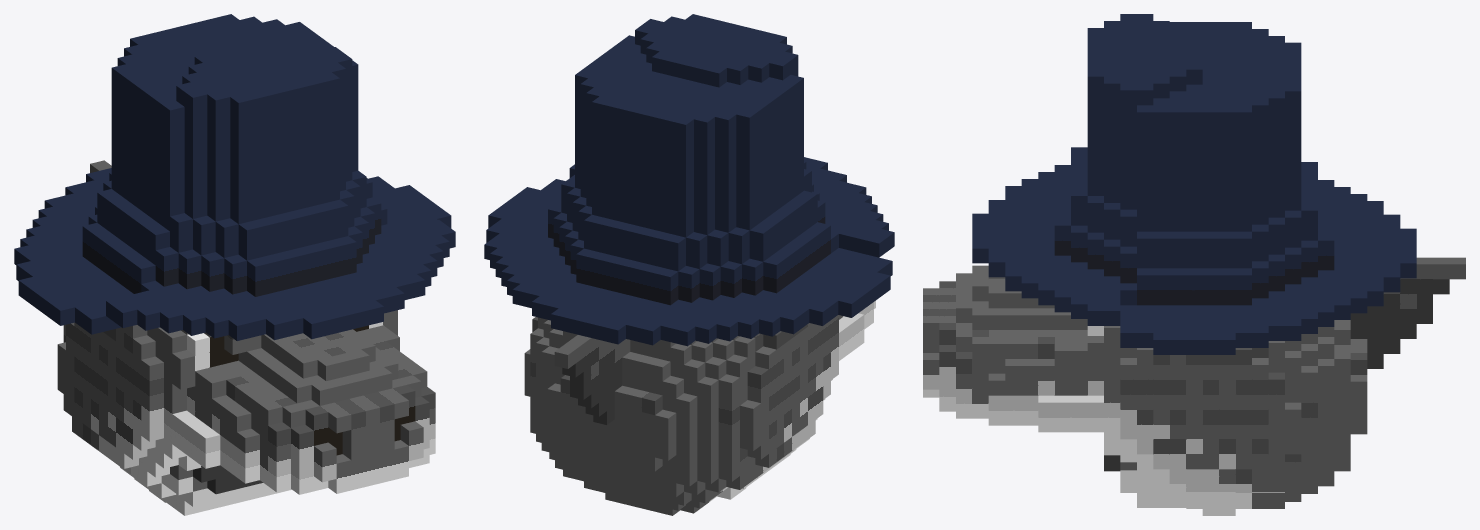
The model's file is top hat_cool dude glasses.gltf.
The picture shows the model from 3 angles, left to right: view 1: azimuth 30°, elevation 25°; view 2: azimuth 150°, elevation 25°; view 3: azimuth 270°, elevation 25°; orthographic projection. The views are drawn at different scales.
Parts seen in each view (by area): view 1: C53_H_TopH_CoolD_3D_RBShade-Mesh; view 2: C53_H_TopH_CoolD_3D_RBShade-Mesh; view 3: C53_H_TopH_CoolD_3D_RBShade-Mesh.
Boxes of the visible parts, x1=… form: C53_H_TopH_CoolD_3D_RBShade-Mesh: x1=14, y1=14, x2=455, y2=515; C53_H_TopH_CoolD_3D_RBShade-Mesh: x1=484, y1=14, x2=894, y2=515; C53_H_TopH_CoolD_3D_RBShade-Mesh: x1=923, y1=14, x2=1465, y2=515.
Bounding box in the file's own units: 27 × 29 × 33.
Materials: 1 (1 with a texture image).
